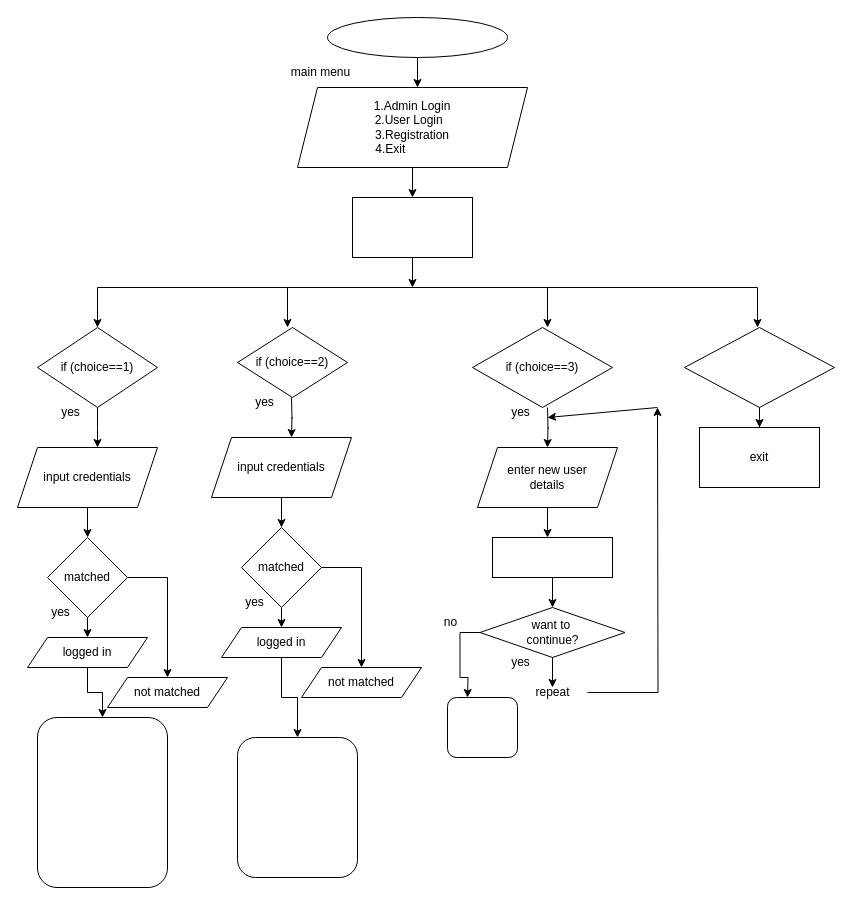
The diagram is 852 pixels wide and 905 high, and some of its shapes have lost their labels. The shapes that lost their labels are listed below. From the top down, each one's centre as x and y in pixels, then its label:
(x=417, y=37): Start
(x=412, y=227): user choice
(x=759, y=367): if (choice==4)
(x=552, y=557): save in data.txt
(x=482, y=727): return to main menu
(x=102, y=802): admin panel 1.view cardholders 2.view and modify stocks 3.view reports
(x=297, y=807): user panel 1.personal details 2.ration claim 3.update info
